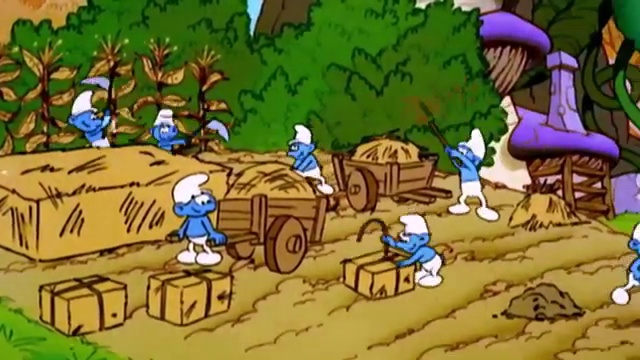smurf: (442, 126, 499, 222), (170, 172, 225, 267), (388, 211, 447, 290), (278, 121, 337, 195), (64, 89, 117, 148), (150, 105, 184, 152)
